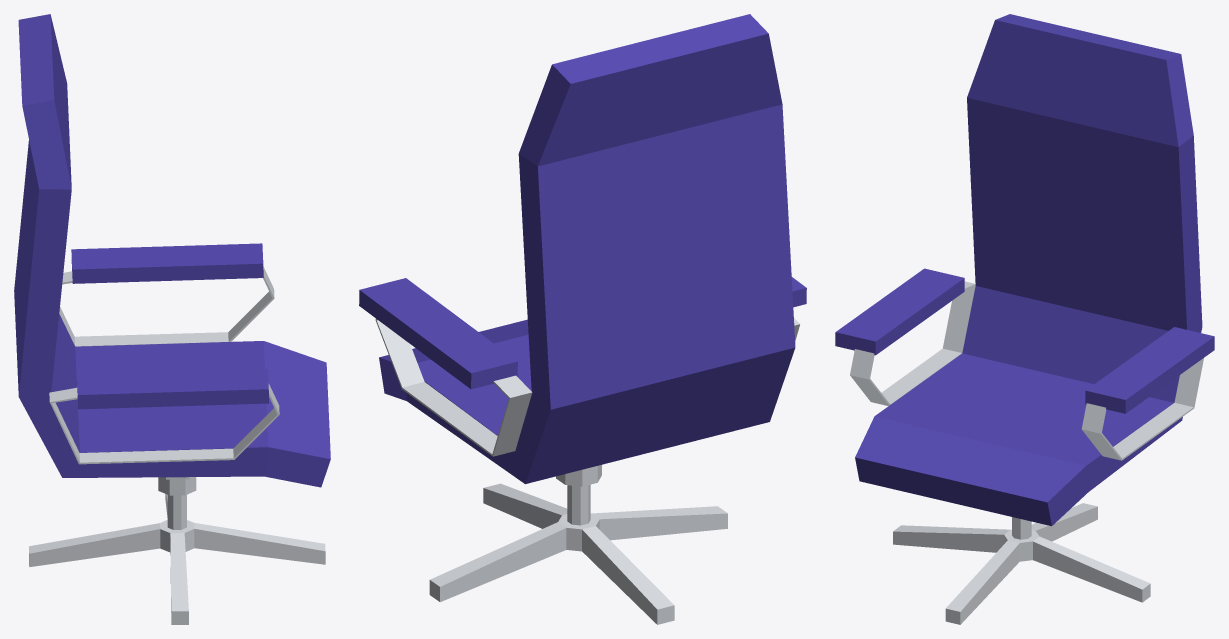
File: base_chair_purple.gltf
3 renders of one model, left to right at view 1: azimuth 30°, elevation 25°; view 2: azimuth 150°, elevation 25°; view 3: azimuth 270°, elevation 25°, orthographic. The views are drawn at different scales.
Parts seen in each view (by area): view 1: Plane.013, Plane.014; view 2: Plane.013, Plane.014; view 3: Plane.013, Plane.014.
Boxes of the visible parts, x1,y1,x2,y2 form: Plane.013: [14, 14, 330, 624]; Plane.014: [49, 243, 279, 464]; Plane.013: [379, 14, 795, 624]; Plane.014: [359, 277, 806, 456]; Plane.013: [855, 14, 1202, 624]; Plane.014: [835, 268, 1214, 460].
Bounding box in the file's own units: 2.25 × 3.22 × 2.27.
